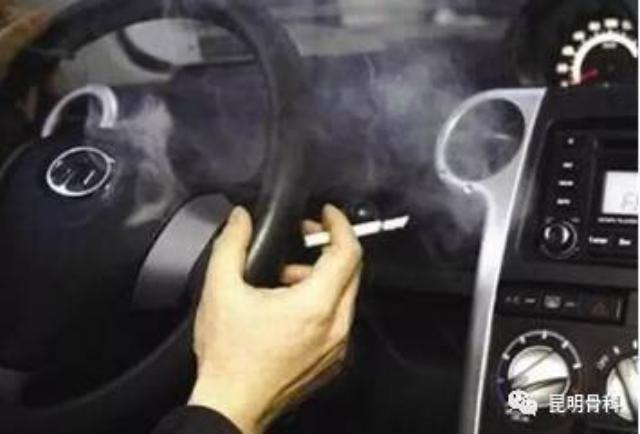Cigarette: (302, 214, 416, 250)
